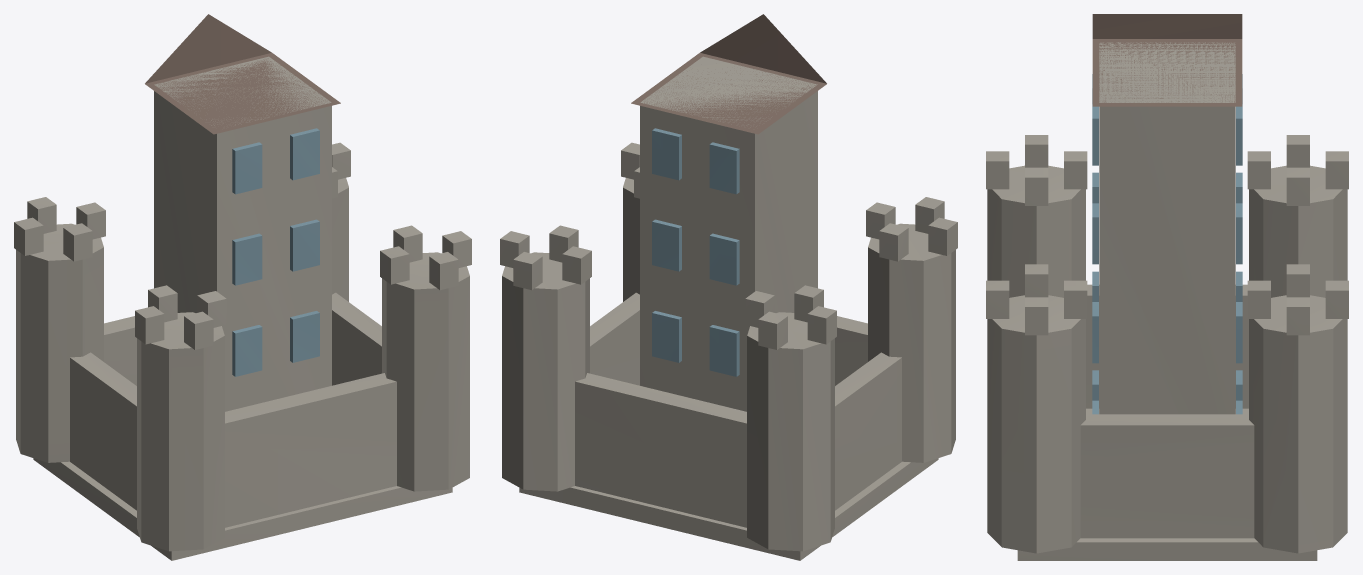
Rendered from castle-05.glb.
The picture shows the model from 3 angles, left to right: view 1: azimuth 30°, elevation 25°; view 2: azimuth 150°, elevation 25°; view 3: azimuth 270°, elevation 25°; orthographic projection. The views are drawn at different scales.
Visible parts, largest first — view 1: world; view 2: world; view 3: world.
Part boxes in pixels (left/top/right/bottom): world: left=14, top=14, right=471, bottom=560; world: left=500, top=14, right=957, bottom=560; world: left=986, top=14, right=1348, bottom=560.
Bounding box in the file's own units: 1.57 × 2.01 × 1.4.
